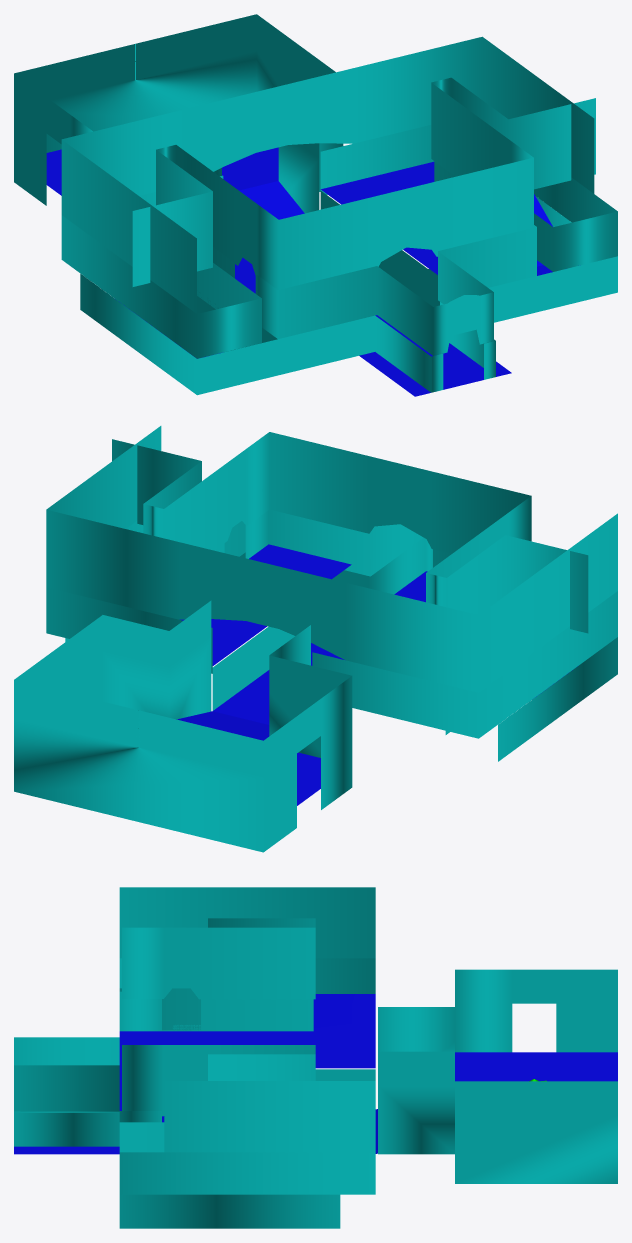
Rendered from Map002_D_High.fbx.
The picture shows the model from 3 angles, top to bottom: view 1: azimuth 30°, elevation 25°; view 2: azimuth 150°, elevation 25°; view 3: azimuth 270°, elevation 25°; orthographic projection. The views are drawn at different scales.
Visible parts, largest first — view 1: High, polySurface202, polySurface199, polySurface204, polySurface205; view 2: High, polySurface202, polySurface199, polySurface204, polySurface205; view 3: High, polySurface202, polySurface199, polySurface204, polySurface205.
Part boxes in pixels (x1,y1,x2,y2): High: [14, 14, 617, 396]; polySurface202: [61, 36, 594, 313]; polySurface199: [132, 77, 595, 289]; polySurface204: [61, 125, 617, 358]; polySurface205: [255, 225, 536, 355]; High: [14, 537, 617, 852]; polySurface202: [46, 426, 617, 692]; polySurface199: [112, 432, 588, 633]; polySurface204: [46, 521, 617, 738]; polySurface205: [245, 509, 451, 576]; High: [14, 969, 617, 1228]; polySurface202: [119, 887, 375, 1152]; polySurface199: [122, 918, 315, 1116]; polySurface204: [119, 958, 375, 1194]; polySurface205: [14, 991, 161, 1122].
Bounding box in the file's own units: 5726 × 1850 × 6850.
